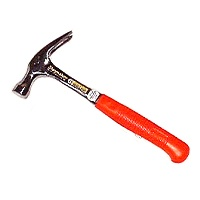hammer: (14, 29, 190, 165)
